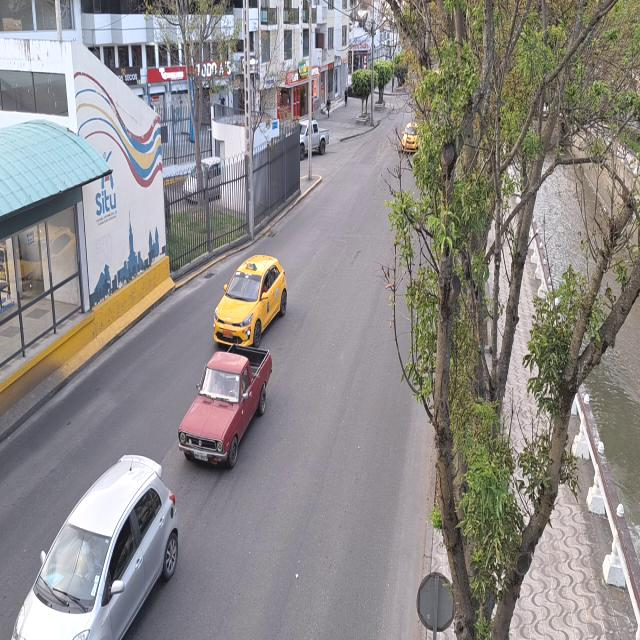CMT: (180, 342, 271, 469)
SED: (6, 441, 183, 639), (212, 252, 288, 348)
